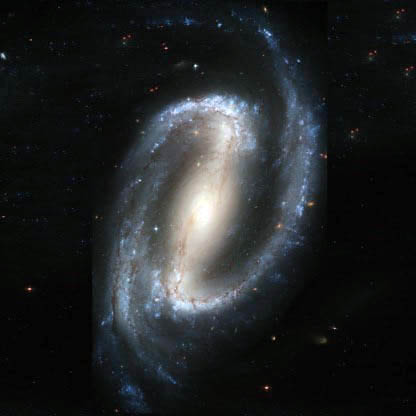NGC 1300: (98, 20, 322, 409)
